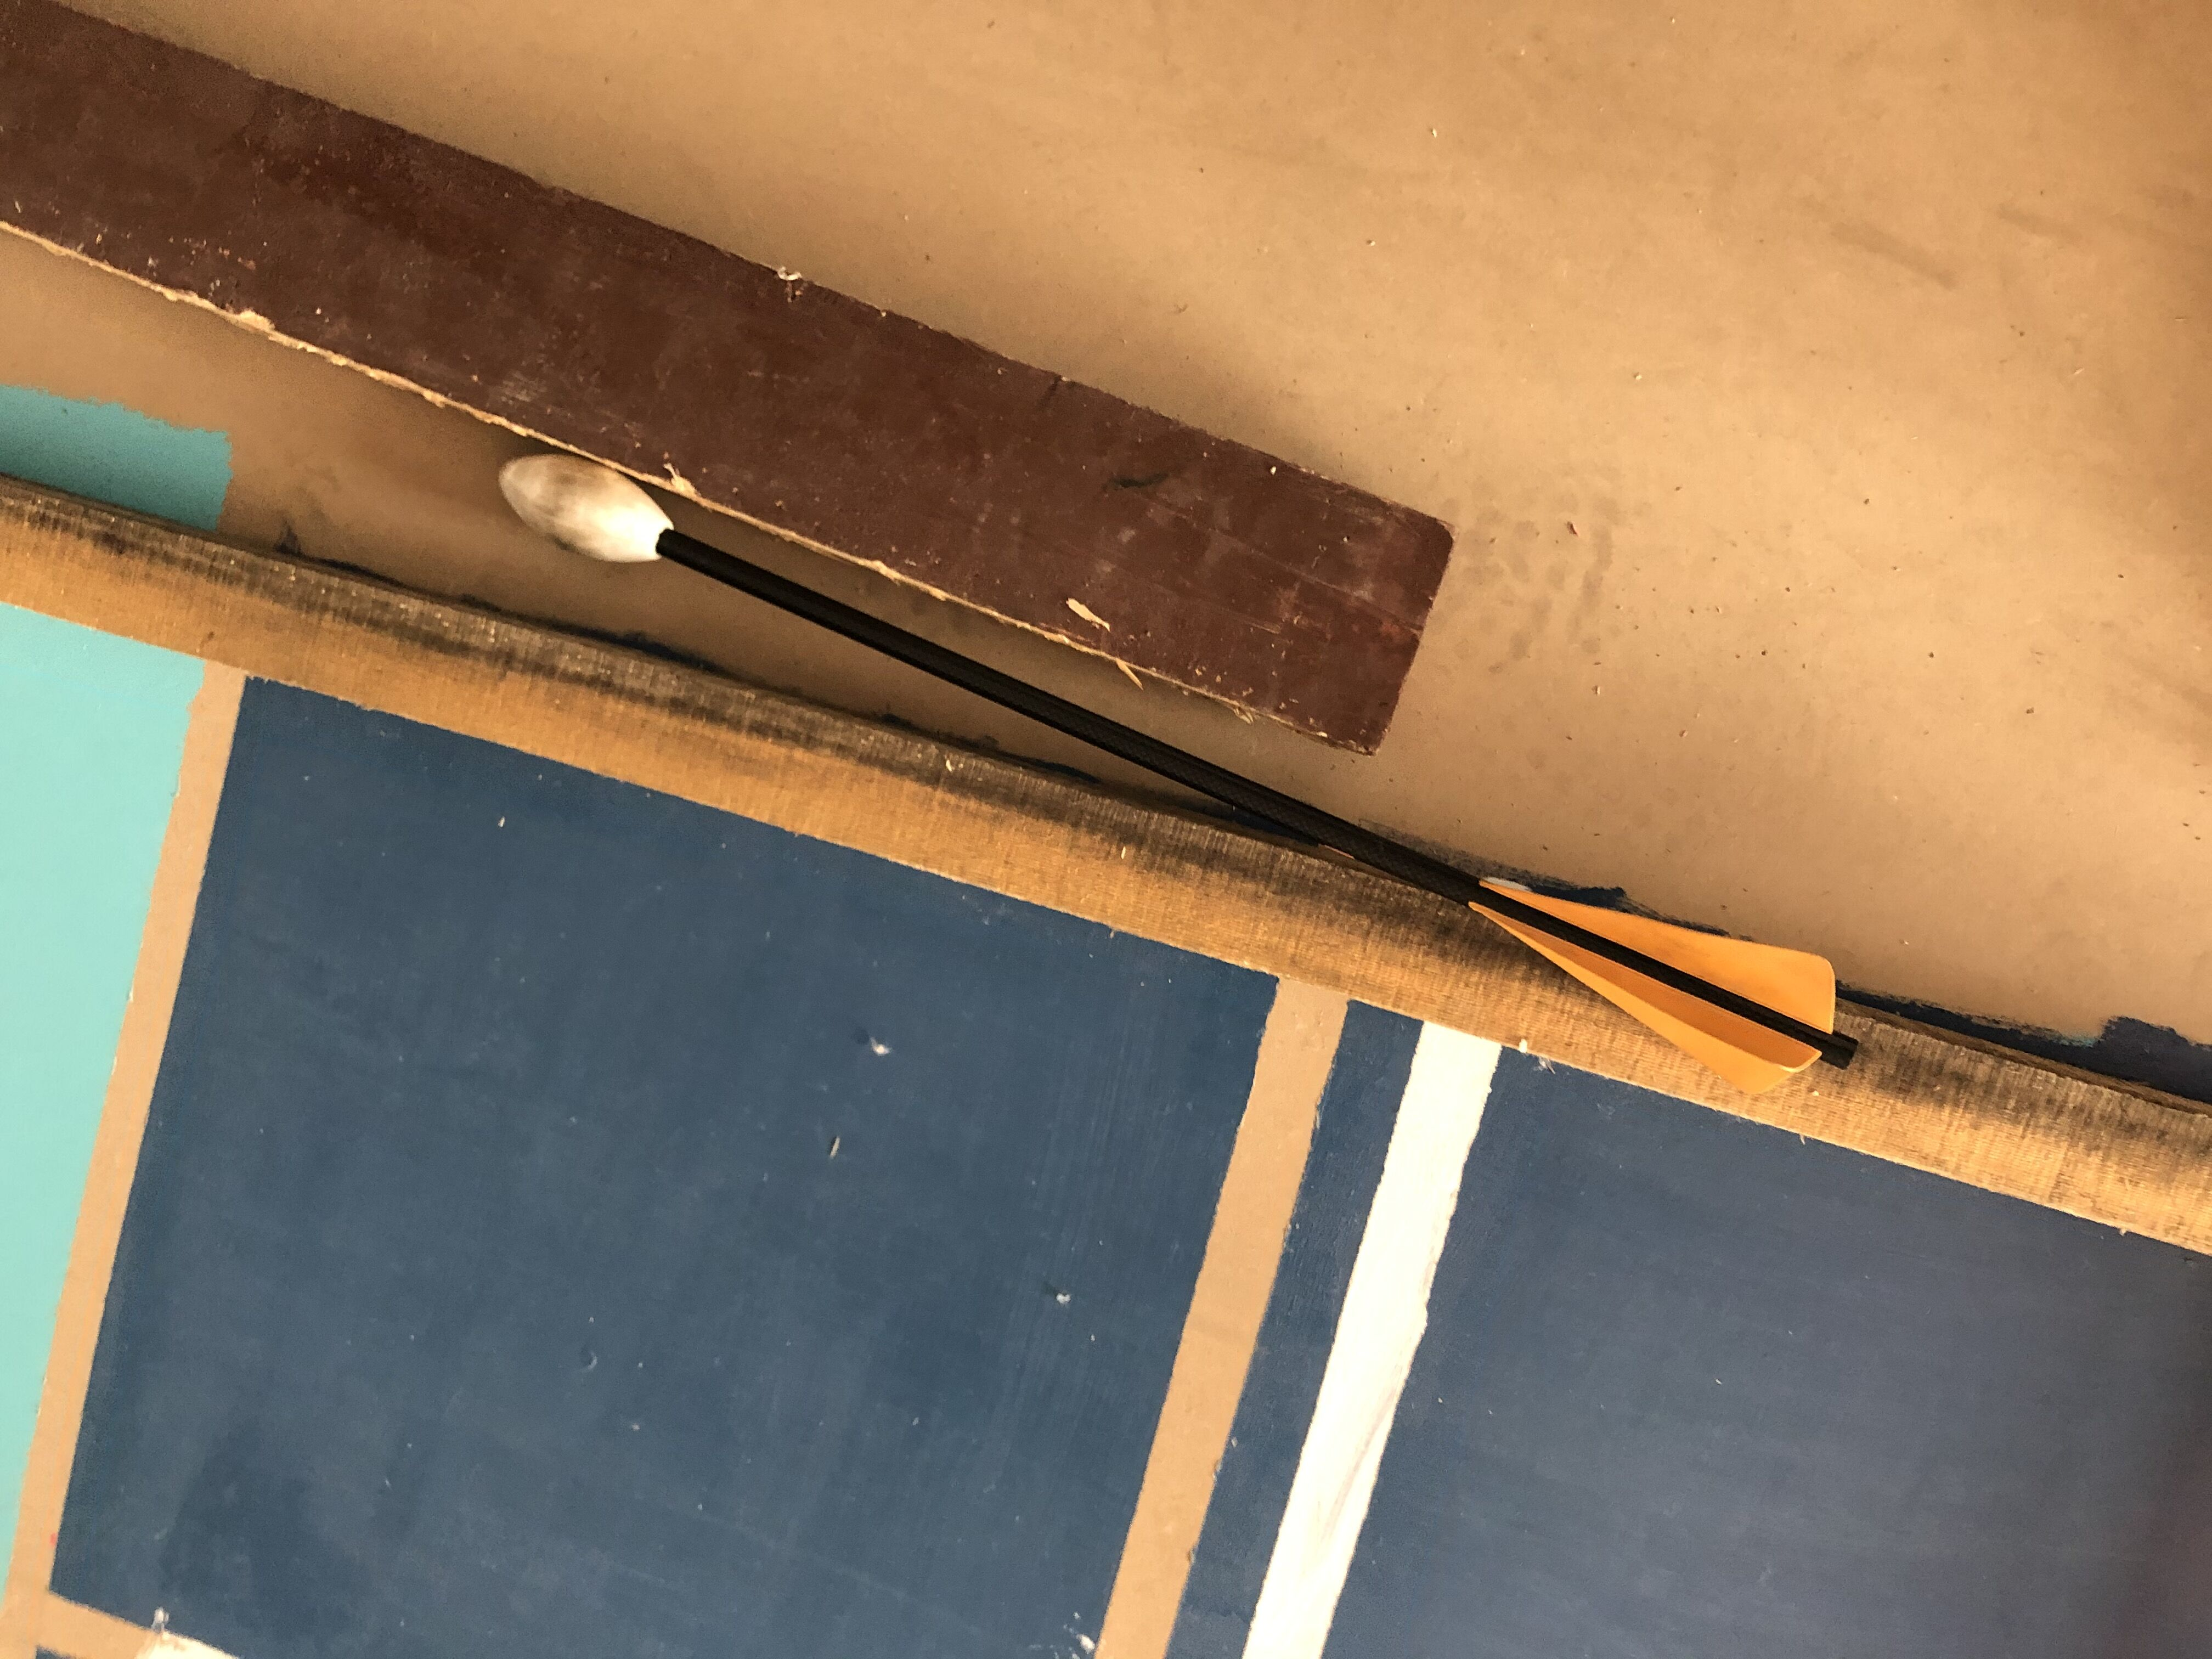arrow: (496, 453, 1864, 1096)
arrowFront: (493, 451, 678, 566)
